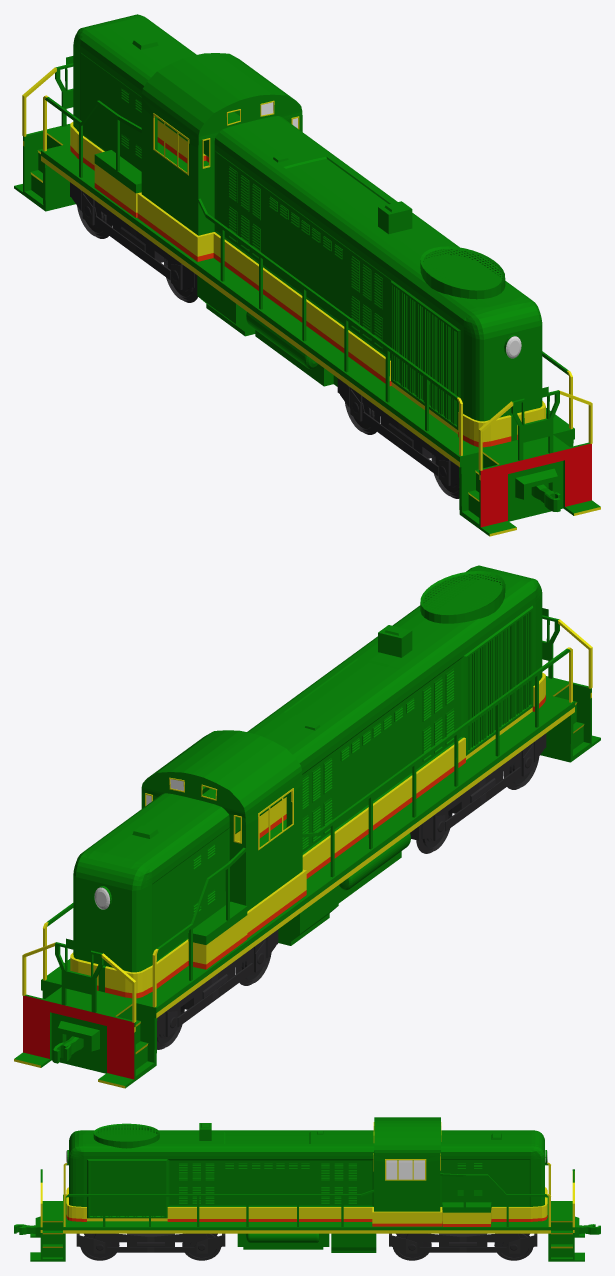
File: train_c.dae
The picture shows the model from 3 angles, top to bottom: view 1: azimuth 30°, elevation 25°; view 2: azimuth 150°, elevation 25°; view 3: azimuth 270°, elevation 25°; orthographic projection. The views are drawn at different scales.
Parts seen in each view (by area): view 1: Body, Cart R, Cart F; view 2: Body, Cart F, Cart R; view 3: Body, Cart F, Cart R, Windows, Cylinder, Cylinder.003, Cylinder.001, Cylinder.002.
Part boxes in pixels (bbox=[...]): Body: bbox=[14, 14, 600, 536]; Cart R: bbox=[70, 182, 197, 289]; Cart F: bbox=[337, 378, 459, 485]; Body: bbox=[14, 565, 600, 1088]; Cart F: bbox=[410, 733, 546, 840]; Cart R: bbox=[157, 929, 278, 1036]; Body: bbox=[14, 1117, 600, 1261]; Cart F: bbox=[76, 1233, 225, 1253]; Cart R: bbox=[389, 1233, 537, 1253]; Windows: bbox=[386, 1160, 424, 1179]; Cylinder: bbox=[80, 1233, 119, 1260]; Cylinder.003: bbox=[494, 1233, 533, 1260]; Cylinder.001: bbox=[182, 1233, 220, 1260]; Cylinder.002: bbox=[393, 1233, 431, 1260].
Size of the model in its own units: 2.35 by 17.77 by 4.24.
